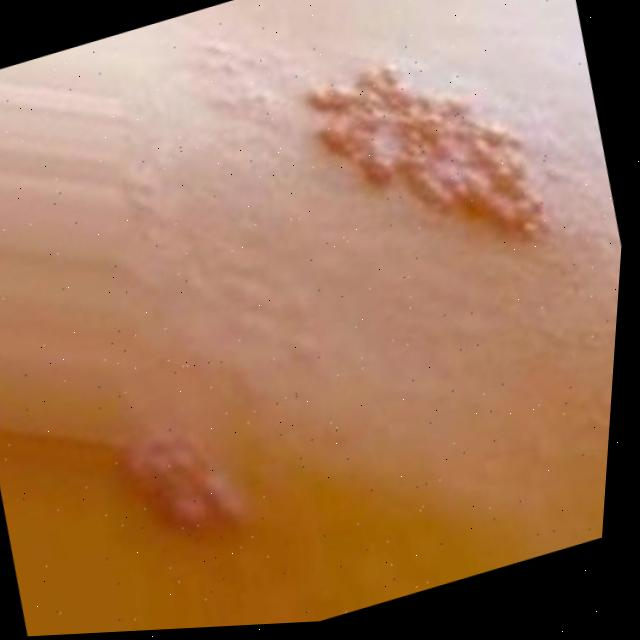Shingles: (278, 5, 580, 319), (116, 408, 258, 561)
